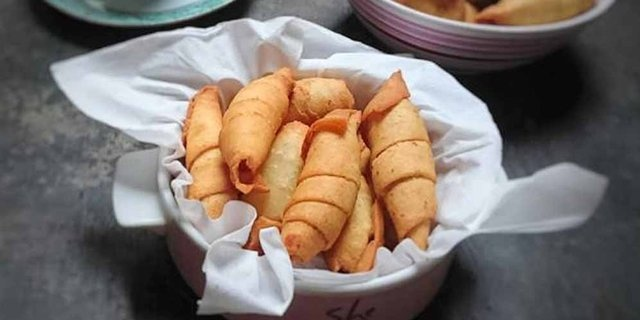pisang_molen: (359, 70, 448, 252), (280, 108, 362, 260), (217, 66, 288, 193)
